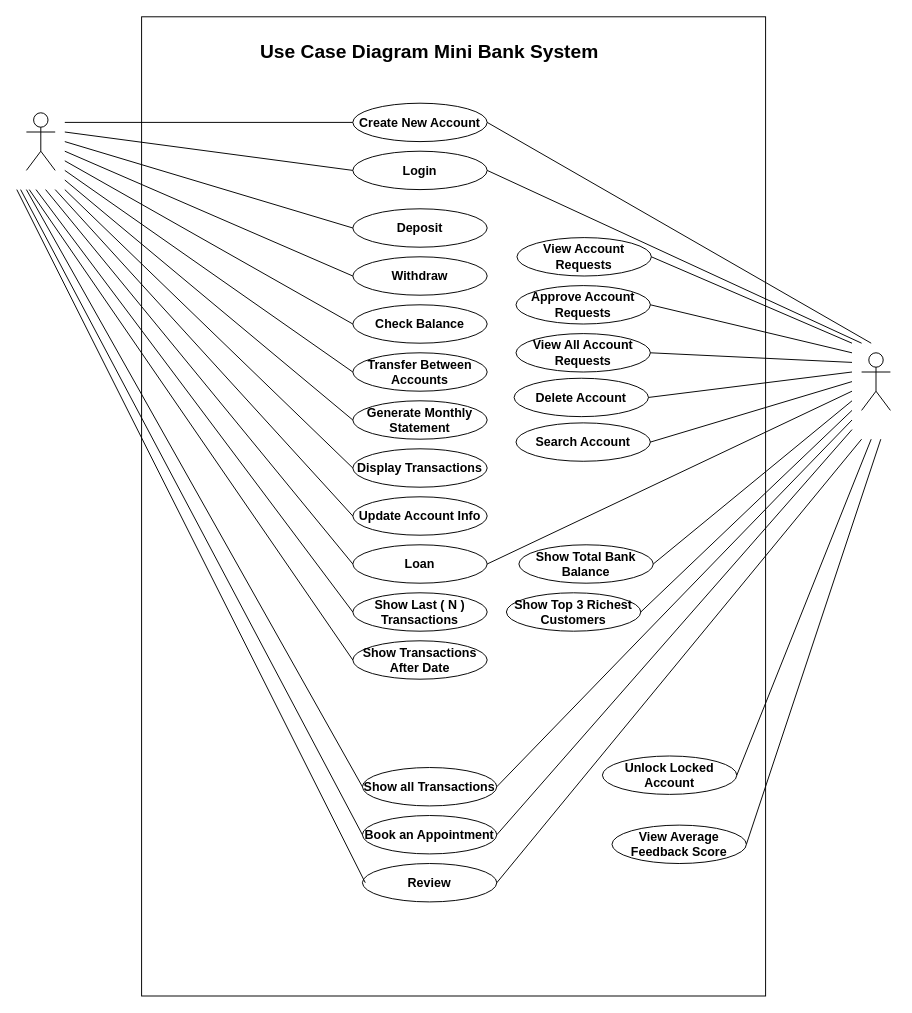
Image size: 912x1013. Some labels were removed from this diagram. The centre of each missing label's shape, as x and y in pixels:
Admin: point 875,381
User: point 40,141
